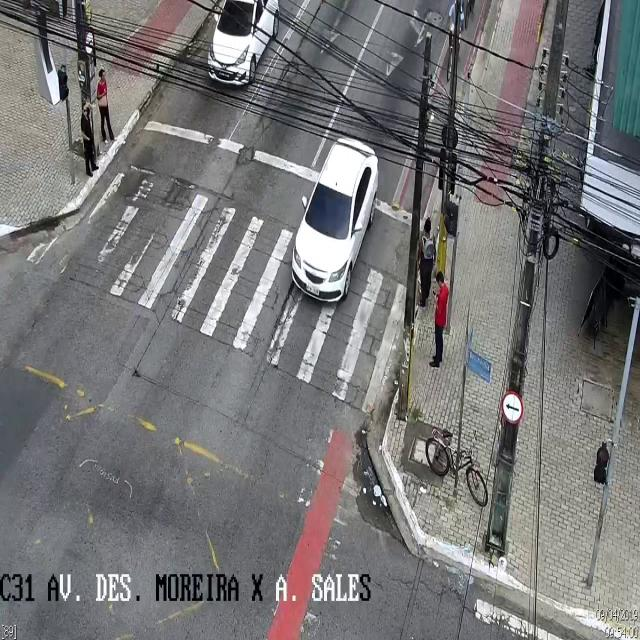Car: (291, 136, 379, 309), (205, 0, 290, 85)
